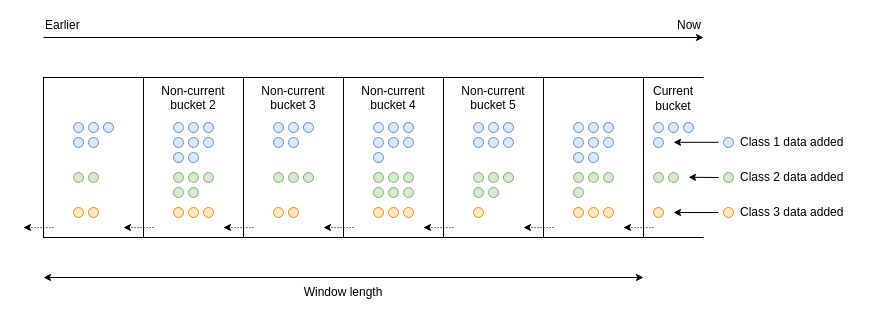
Image size: 871x319. Some labels were removed from this diagram. The centre of each missing label's shape, as x and y in pixels:
"Non-current bucket 1" goes at (93,157).
"Non-current bucket 6" goes at (593,157).
